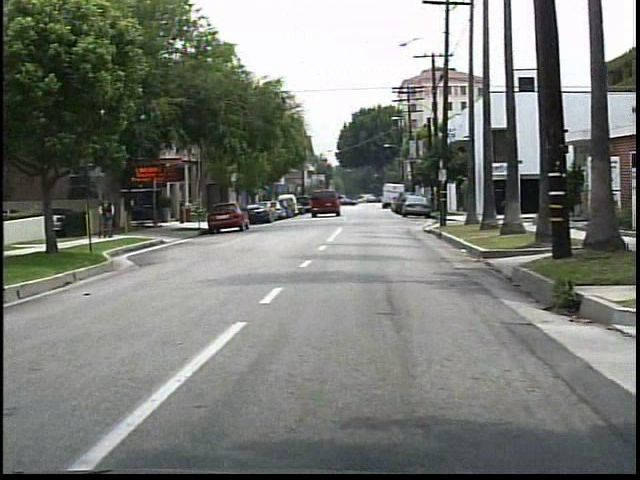person: (89, 192, 115, 241)
